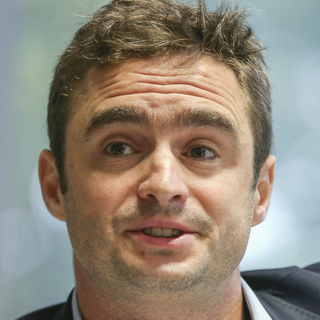eye: (176, 141, 226, 162), (96, 139, 144, 160)
